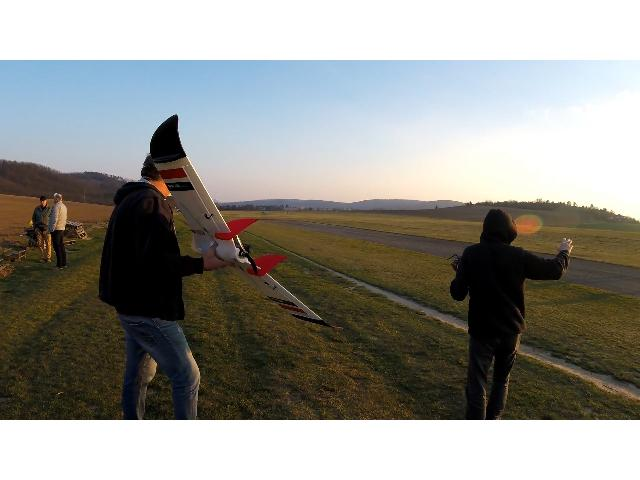Anti-Drone: (144, 112, 346, 336)
